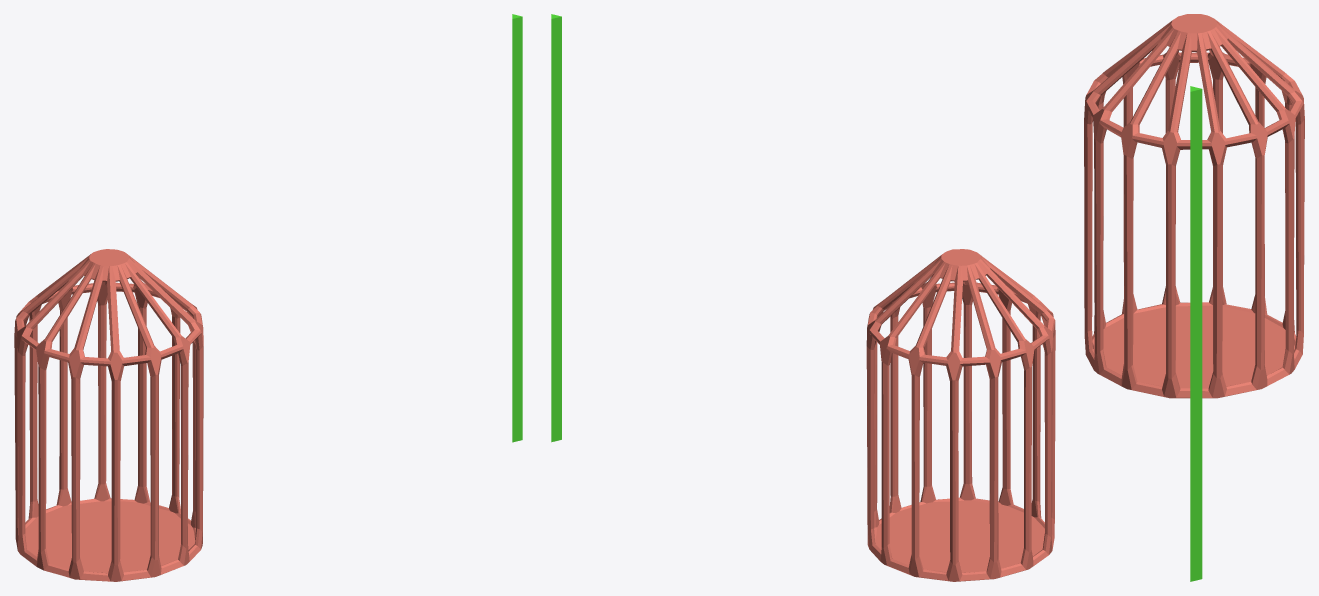
The model's file is cage.fbx.
3 views of the same model, side by side, from view 1: azimuth 30°, elevation 25°; view 2: azimuth 150°, elevation 25°; view 3: azimuth 270°, elevation 25° (orthographic). The views are drawn at different scales.
Parts seen in each view (by area): view 1: cell, chain; view 2: cell, chain; view 3: cell, chain.
Part boxes in pixels (x1,y1,x2,y2): cell: (14, 249, 203, 581); chain: (512, 14, 522, 442); cell: (866, 249, 1055, 581); chain: (551, 14, 561, 442); cell: (1084, 14, 1304, 398); chain: (1190, 86, 1202, 581).
Bounding box in the file's own units: 517 × 429 × 174.
